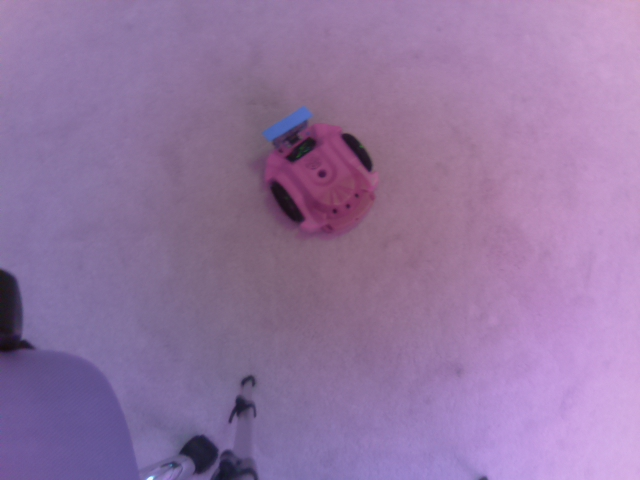board: (263, 105, 311, 147)
chassis: (259, 97, 377, 240)
